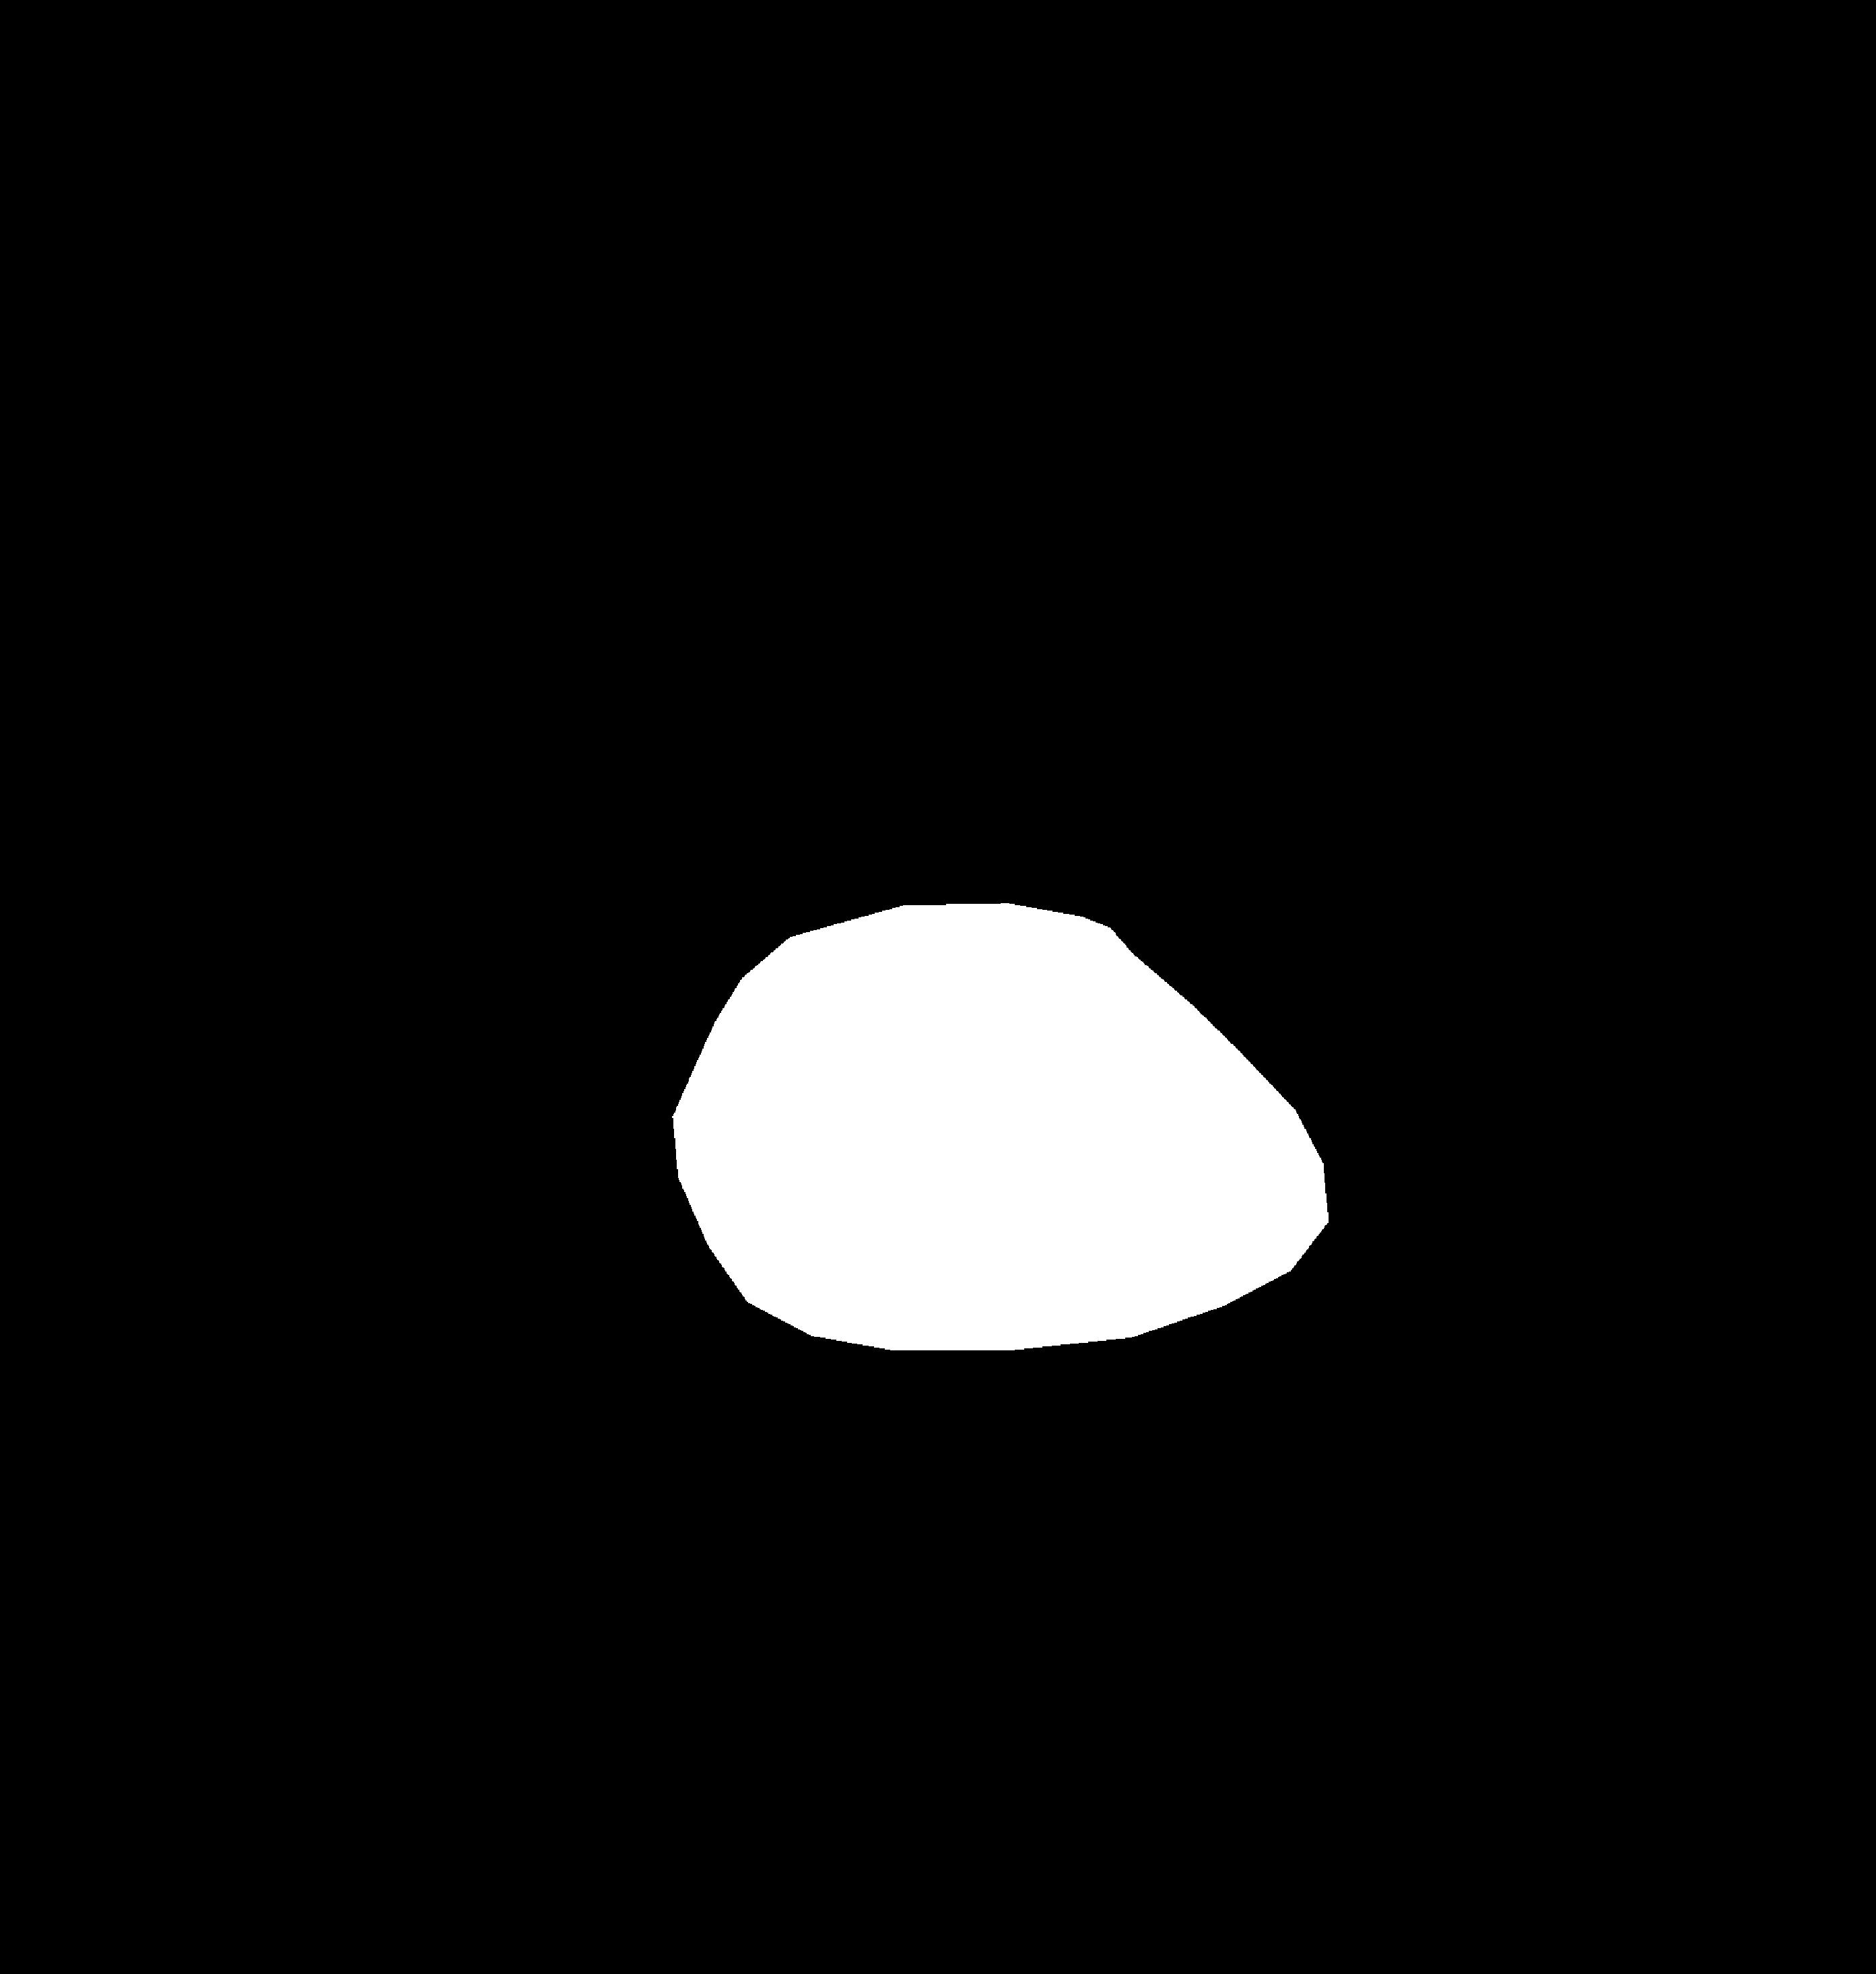heart: (675, 959, 1319, 1364)
left_lung: (192, 257, 879, 1451)
right_lung: (999, 256, 1624, 1318)
